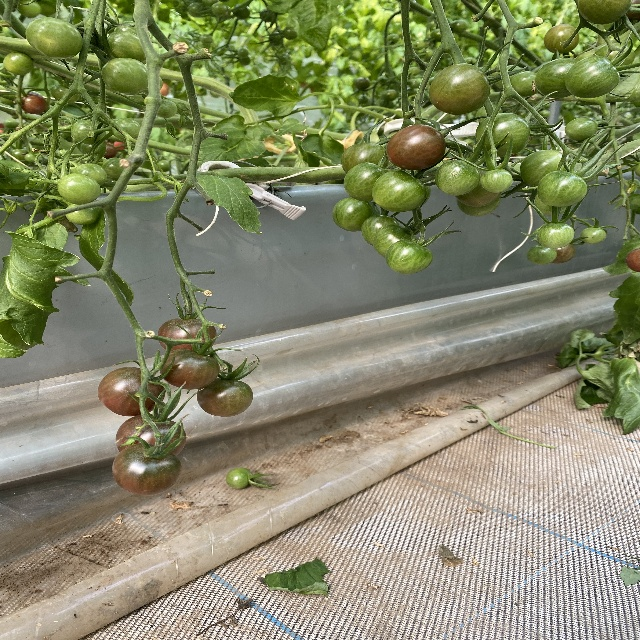l_fully_ripened: (115, 415, 187, 457), (384, 125, 446, 171), (157, 317, 217, 353), (626, 248, 640, 272)
l_green: (428, 63, 491, 115), (25, 16, 84, 60), (371, 169, 430, 213), (565, 55, 621, 99), (475, 112, 529, 157), (537, 170, 588, 208), (520, 149, 568, 189), (100, 58, 149, 96), (536, 57, 580, 98), (344, 162, 389, 202), (434, 160, 481, 197), (340, 142, 394, 174), (332, 197, 381, 231), (386, 239, 433, 274), (373, 225, 420, 259), (576, 0, 633, 25), (57, 173, 101, 204), (361, 213, 401, 246), (106, 30, 146, 62), (456, 182, 502, 207), (455, 193, 502, 217), (594, 44, 635, 71), (532, 190, 571, 216), (536, 222, 575, 248), (480, 169, 514, 194), (71, 119, 106, 143), (564, 116, 597, 141), (3, 51, 34, 76), (74, 163, 107, 186), (112, 118, 140, 143), (511, 72, 539, 97), (64, 204, 98, 224), (527, 244, 557, 264), (476, 105, 504, 125), (52, 85, 80, 104), (226, 467, 251, 488), (103, 157, 126, 179), (580, 226, 606, 244), (156, 99, 177, 118)
l_half_ripened: (112, 442, 183, 495), (97, 367, 165, 417), (158, 349, 220, 390), (197, 380, 253, 417), (543, 24, 580, 54), (18, 91, 48, 114), (552, 244, 574, 263)
